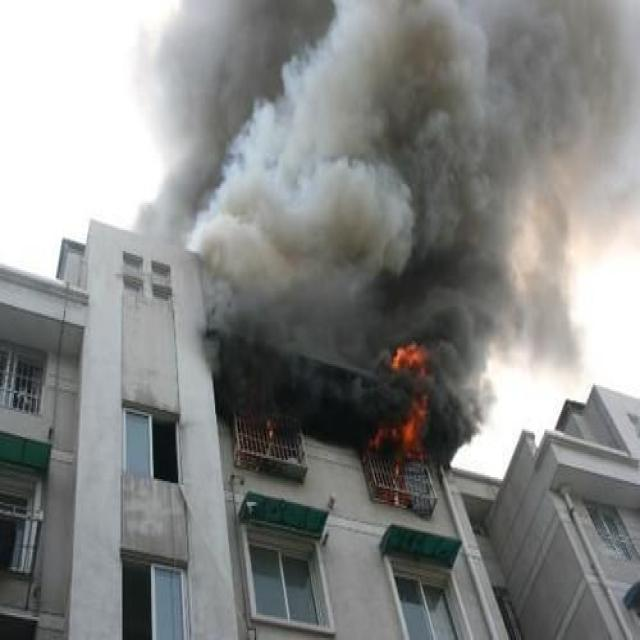fire: (369, 347, 431, 450)
smoke: (135, 0, 640, 439)
